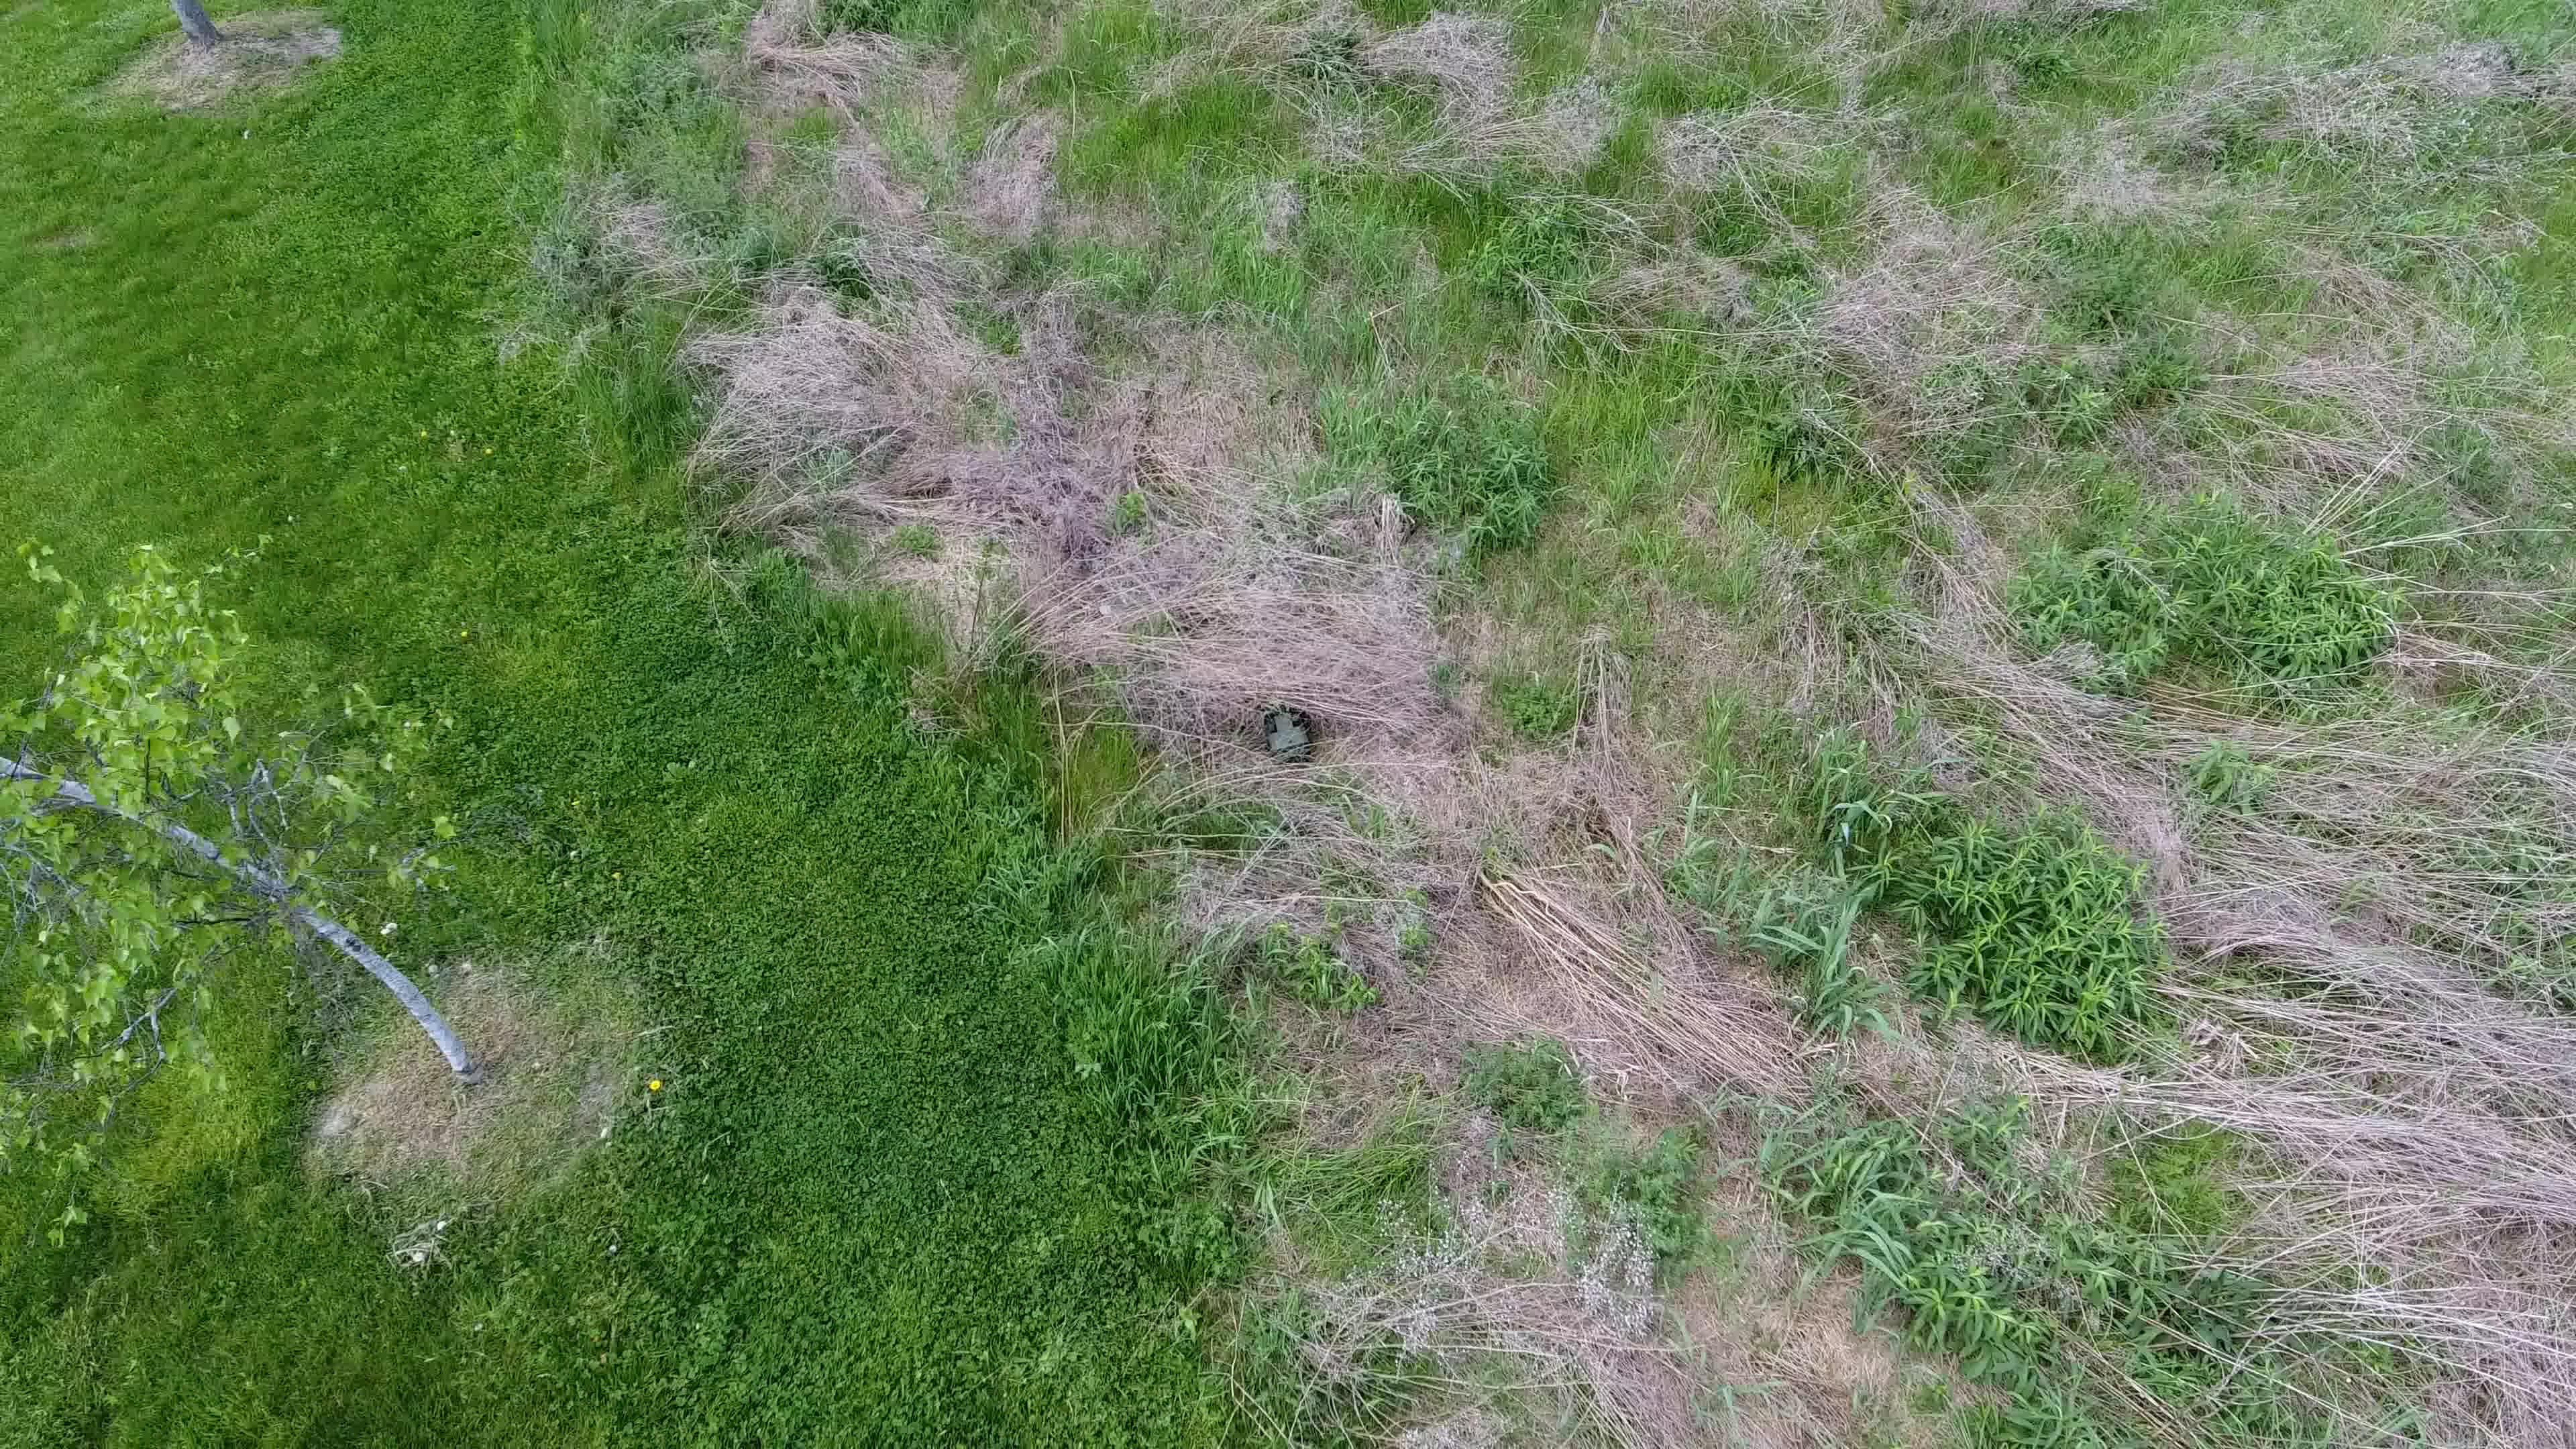transporter9: (1260, 706, 1313, 757)
